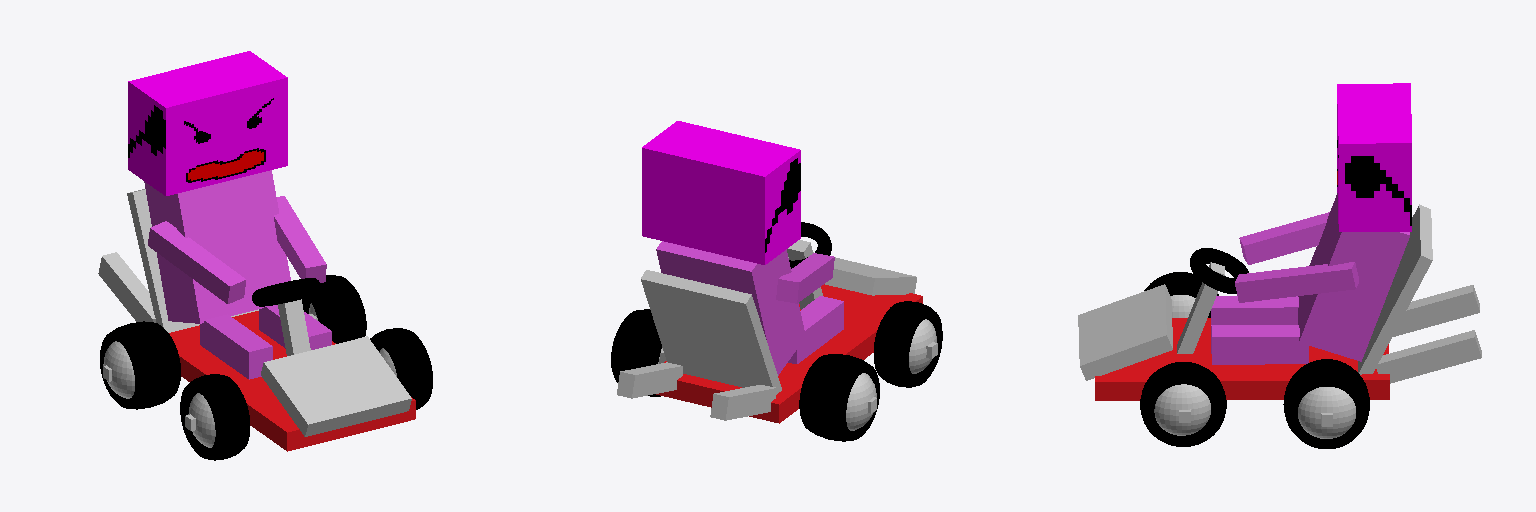
The picture shows the model from 3 angles: view 1: azimuth 30°, elevation 25°; view 2: azimuth 150°, elevation 25°; view 3: azimuth 270°, elevation 25°; orthographic projection.
Visible parts, largest first — view 1: 立方体.007_立方体.017, 立方体.013_立方体.018, 立方体.001_立方体.016, 立方体_立方体.001, トーラス.001, トーラス, 立方体.009_立方体.010, 立方体.012_立方体.013, トーラス.003, トーラス.002, 立方体.004_立方体.005, 立方体.010_立方体.011 (+6 smaller); view 2: 立方体.007_立方体.017, 立方体.004_立方体.005, 立方体.013_立方体.018, 立方体_立方体.001, トーラス.001, トーラス, トーラス.003, 立方体.001_立方体.016, 立方体.012_立方体.013, 立方体.009_立方体.010, 立方体.005_立方体.006, 立方体.006_立方体.007 (+4 smaller); view 3: 立方体.007_立方体.017, 立方体.013_立方体.018, 立方体_立方体.001, 立方体.001_立方体.016, 立方体.004_立方体.005, トーラス.003, 立方体.011_立方体.014, トーラス.002, 立方体.010_立方体.011, 立方体.006_立方体.007, 立方体.009_立方体.010, 立方体.005_立方体.006 (+6 smaller).
Boxes of the visible parts, <box> form: 立方体.007_立方体.017: <box>128,51,287,195</box>; 立方体.013_立方体.018: <box>144,170,290,323</box>; 立方体.001_立方体.016: <box>261,336,411,436</box>; 立方体_立方体.001: <box>169,311,415,451</box>; トーラス.001: <box>100,321,180,409</box>; トーラス: <box>180,374,249,460</box>; 立方体.009_立方体.010: <box>148,221,245,303</box>; 立方体.012_立方体.013: <box>200,314,272,379</box>; トーラス.003: <box>302,275,366,343</box>; トーラス.002: <box>370,328,432,409</box>; 立方体.004_立方体.005: <box>127,189,258,332</box>; 立方体.010_立方体.011: <box>274,196,326,282</box>; 立方体.007_立方体.017: <box>642,121,800,264</box>; 立方体.004_立方体.005: <box>641,270,781,393</box>; 立方体.013_立方体.018: <box>656,241,805,375</box>; 立方体_立方体.001: <box>656,284,922,423</box>; トーラス.001: <box>799,354,879,441</box>; トーラス: <box>874,301,942,387</box>; トーラス.003: <box>611,309,661,396</box>; 立方体.001_立方体.016: <box>788,252,916,295</box>; 立方体.012_立方体.013: <box>788,296,843,363</box>; 立方体.009_立方体.010: <box>776,253,834,303</box>; 立方体.005_立方体.006: <box>710,385,776,420</box>; 立方体.006_立方体.007: <box>617,362,682,398</box>; 立方体.007_立方体.017: <box>1337,83,1411,231</box>; 立方体.013_立方体.018: <box>1298,193,1409,361</box>; 立方体_立方体.001: <box>1095,318,1389,400</box>; 立方体.001_立方体.016: <box>1078,284,1172,380</box>; 立方体.004_立方体.005: <box>1358,204,1432,374</box>; トーラス.003: <box>1283,359,1369,448</box>; 立方体.011_立方体.014: <box>1211,325,1308,364</box>; トーラス.002: <box>1140,362,1226,446</box>; 立方体.010_立方体.011: <box>1235,262,1358,302</box>; 立方体.006_立方体.007: <box>1376,330,1481,383</box>; 立方体.009_立方体.010: <box>1239,212,1329,264</box>; 立方体.005_立方体.006: <box>1393,285,1479,336</box>.
Size of the model in its own units: 4.9 by 5.19 by 6.68.
23 materials, 4 textured.